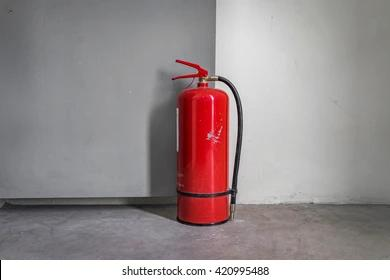floor-kept: (167, 47, 256, 233)
